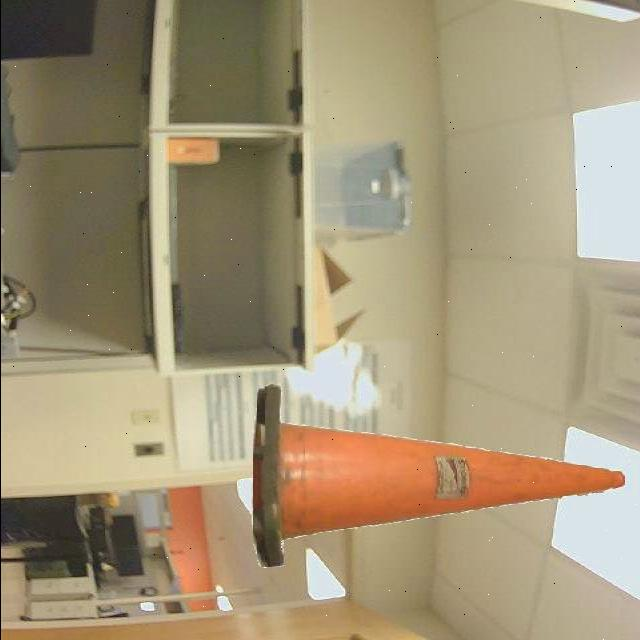traffic cone: (236, 378, 634, 580)
